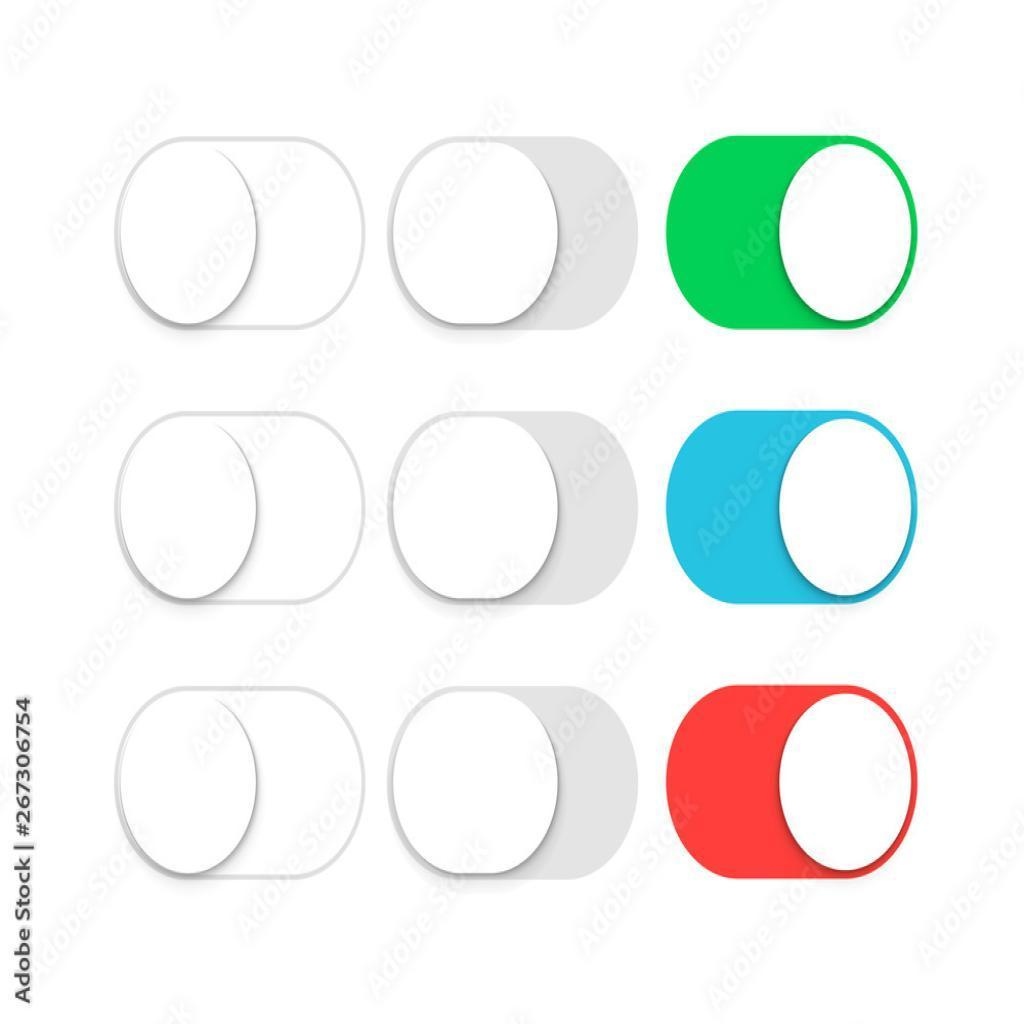switch: (103, 125, 372, 345), (386, 401, 645, 610), (660, 132, 925, 336), (664, 408, 921, 612), (110, 406, 366, 607), (390, 130, 641, 335), (390, 684, 643, 884), (666, 686, 921, 880), (113, 686, 368, 880)
